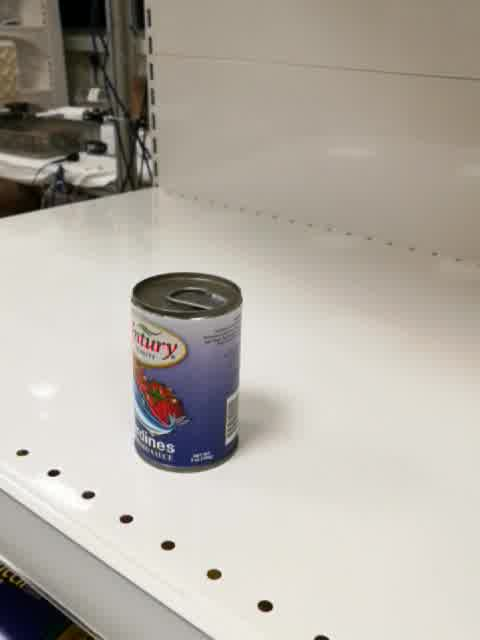sardine: (129, 270, 243, 474)
